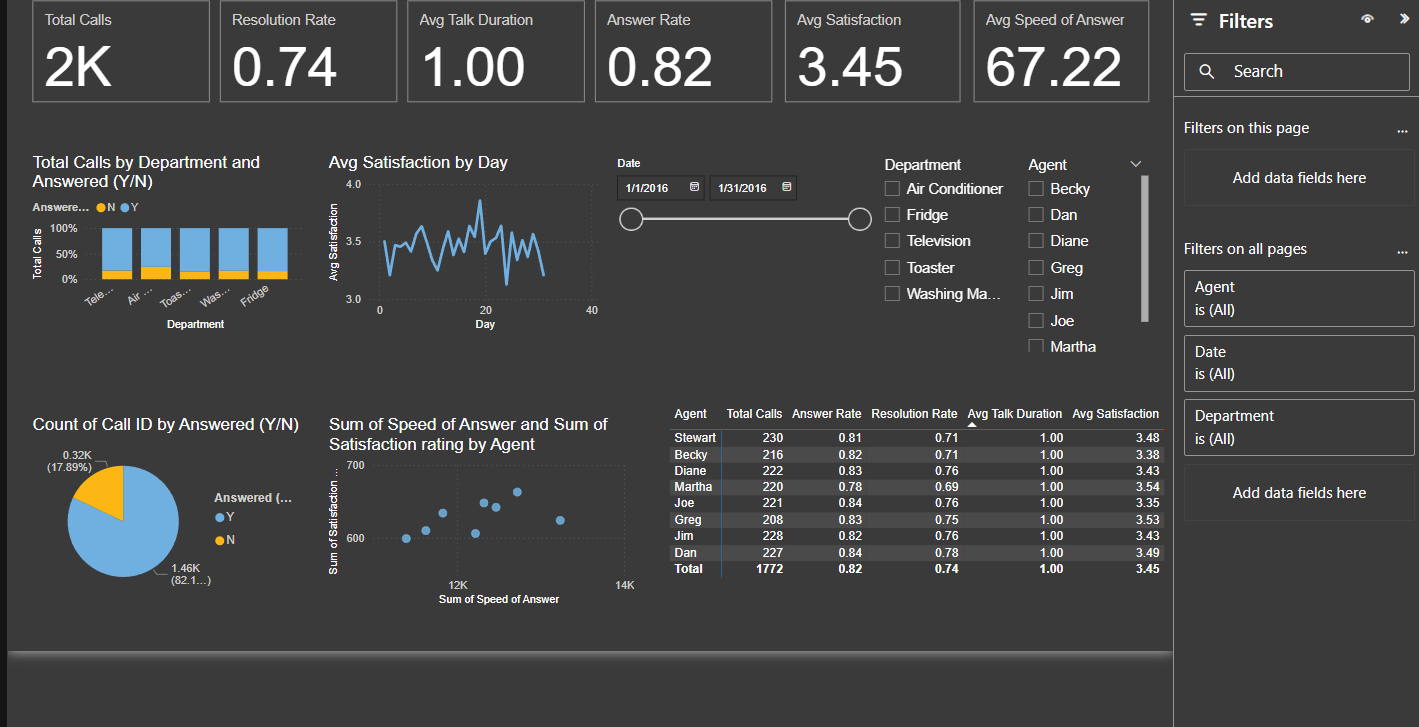

Layout of this report page (visuals, bound fields, positions):
{"tool":"powerbi","page":{"name":"Dashboard","canvas":[1280,720],"ordinal":0},"visuals":[{"type":"cardVisual","fields":{"Data":["Table_1.Total Calls"]},"box":[22,0,205.8,122.1],"z":0},{"type":"cardVisual","fields":{"Data":["Table_1.Answer Rate"]},"box":[639.5,0,205.8,122.1],"z":1000},{"type":"cardVisual","fields":{"Data":["Table_1.Resolution Rate"]},"box":[227.8,0,205.8,122.1],"z":2000},{"type":"cardVisual","fields":{"Data":["Table_1.Avg Talk Duration"]},"box":[433.6,0,205.8,122.1],"z":3000},{"type":"cardVisual","fields":{"Data":["Table_1.Avg Speed of Answer"]},"box":[1056.6,0,203.1,122.1],"z":4000},{"type":"cardVisual","fields":{"Data":["Table_1.Avg Satisfaction"]},"box":[849.4,0,203.1,122.1],"z":5000},{"type":"hundredPercentStackedColumnChart","fields":{"Category":["Table_1.Department"],"Y":["Table_1.Total Calls"],"Series":["Table_1.Answered (Y/N)"]},"box":[22,171.5,308.7,200.3],"z":6000},{"type":"pivotTable","fields":{"Rows":["Table_1.Agent"],"Values":["Table_1.Total Calls","Table_1.Answer Rate","Table_1.Resolution Rate","Table_1.Avg Talk Duration","Table_1.Avg Satisfaction"]},"box":[723.2,444.6,557.1,229.2],"z":7000},{"type":"lineChart","fields":{"Category":["Table_1.Date.Variation.Date Hierarchy.Year","Table_1.Date.Variation.Date Hierarchy.Quarter","Table_1.Date.Variation.Date Hierarchy.Month","Table_1.Date.Variation.Date Hierarchy.Day"],"Y":["Table_1.Avg Satisfaction"]},"box":[347.2,171.5,308.7,200.3],"z":8000},{"type":"pieChart","fields":{"Category":["Table_1.Answered (Y/N)","Table_1.Resolved"],"Y":["Table_1.Call ID"]},"box":[22,459.7,308.7,214.1],"z":9000},{"type":"scatterChart","fields":{"X":["Table_1.Speed of Answer"],"Y":["Table_1.Satisfaction rating"],"Category":["Table_1.Agent"]},"box":[347.2,459.7,345.8,214.1],"z":10000},{"type":"slicer","fields":{"Values":["Table_1.Date"]},"box":[656.6,171.7,300.8,97.5],"z":11000},{"type":"slicer","fields":{"Values":["Table_1.Agent"]},"box":[1108.6,171.7,149.7,223.9],"z":12000},{"type":"slicer","fields":{"Values":["Table_1.Department"]},"box":[950.6,171.7,151.1,223.9],"z":13000}]}

Visuals, with their boxes on the page's 1280x720 design canvas (x1, y1, x2, y2). These are canvas units, not pixel positions in the 1419x727 screenshot, which may show the page scaled, cropped or inside an application window:
cardVisual - Table_1.Total Calls: <bbox>22, 0, 228, 122</bbox>
cardVisual - Table_1.Answer Rate: <bbox>640, 0, 845, 122</bbox>
cardVisual - Table_1.Resolution Rate: <bbox>228, 0, 434, 122</bbox>
cardVisual - Table_1.Avg Talk Duration: <bbox>434, 0, 639, 122</bbox>
cardVisual - Table_1.Avg Speed of Answer: <bbox>1057, 0, 1260, 122</bbox>
cardVisual - Table_1.Avg Satisfaction: <bbox>849, 0, 1052, 122</bbox>
hundredPercentStackedColumnChart - Table_1.Department x Table_1.Total Calls: <bbox>22, 172, 331, 372</bbox>
pivotTable - Table_1.Agent x Table_1.Total Calls: <bbox>723, 445, 1280, 674</bbox>
lineChart - Table_1.Date.Variation.Date Hierarchy.Year x Table_1.Date.Variation.Date Hierarchy.Quarter: <bbox>347, 172, 656, 372</bbox>
pieChart - Table_1.Answered (Y/N) x Table_1.Resolved: <bbox>22, 460, 331, 674</bbox>
scatterChart - Table_1.Speed of Answer x Table_1.Satisfaction rating: <bbox>347, 460, 693, 674</bbox>
slicer - Table_1.Date: <bbox>657, 172, 957, 269</bbox>
slicer - Table_1.Agent: <bbox>1109, 172, 1258, 396</bbox>
slicer - Table_1.Department: <bbox>951, 172, 1102, 396</bbox>
